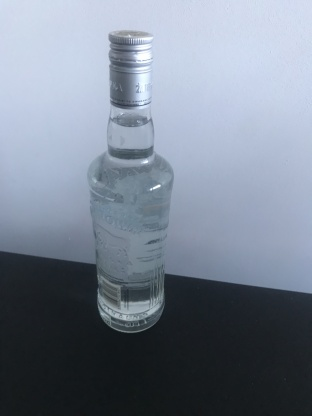nakretka: (106, 27, 155, 112)
